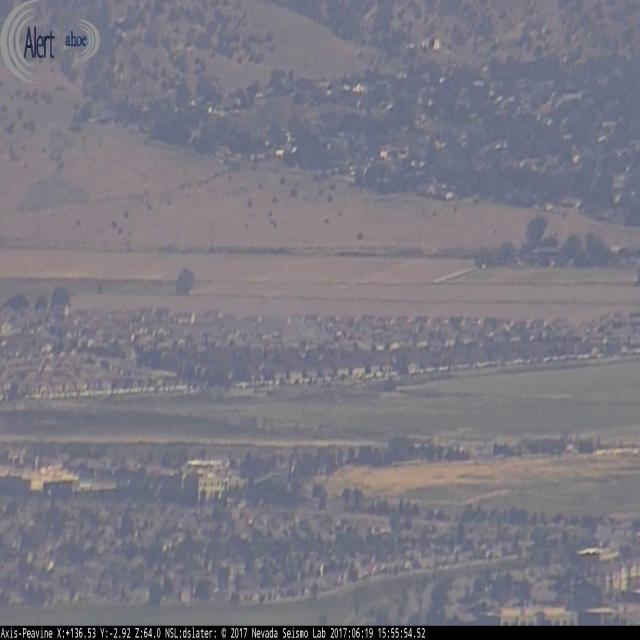smoke: (239, 286, 342, 348)
